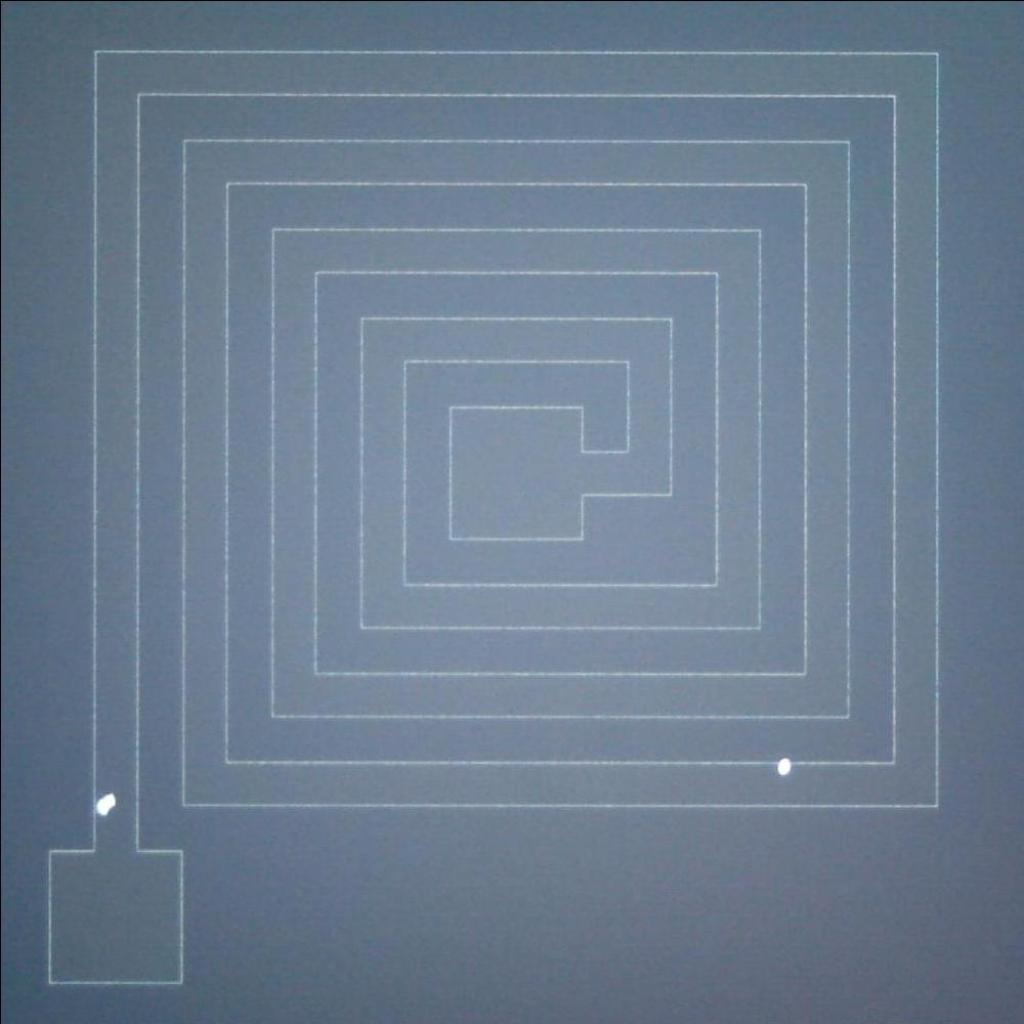spot: (85, 786, 123, 826), (764, 750, 804, 782)
